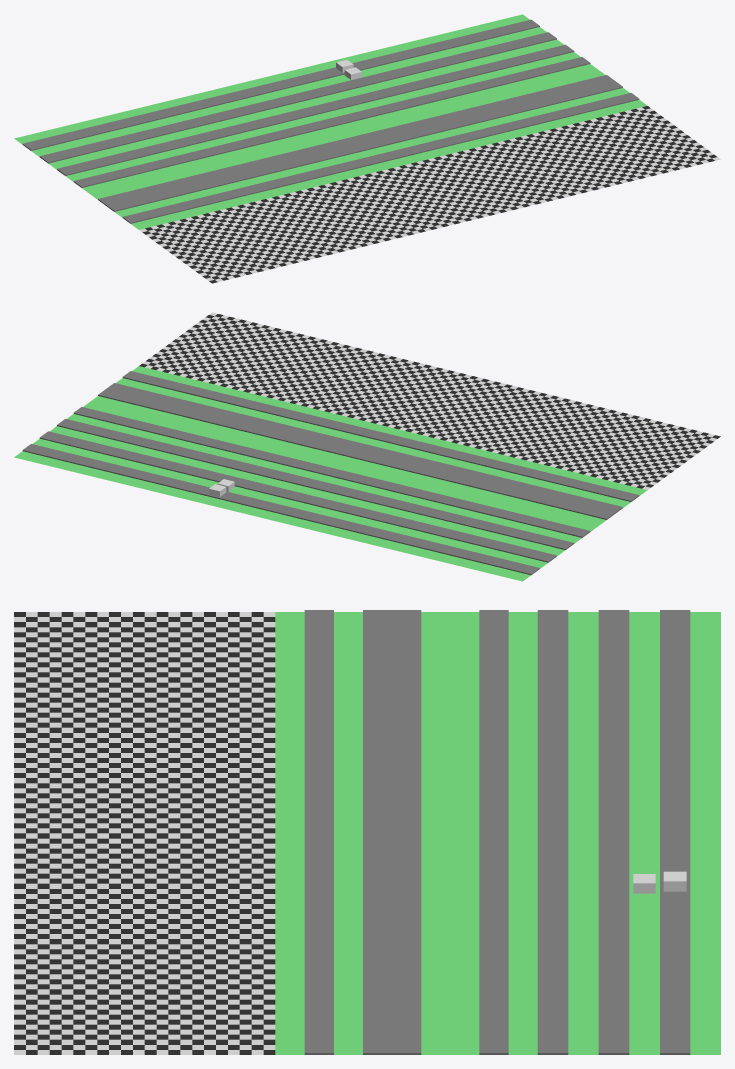
Rendered from Map02.fbx.
The picture shows the model from 3 angles, top to bottom: view 1: azimuth 30°, elevation 25°; view 2: azimuth 150°, elevation 25°; view 3: azimuth 270°, elevation 25°; orthographic projection. The views are drawn at different scales.
Parts seen in each view (by area): view 1: Level1.001; view 2: Level1.001; view 3: Level1.001.
Part boxes in pixels (left/top/right/bottom): Level1.001: left=14, top=14, right=720, bottom=283; Level1.001: left=14, top=312, right=720, bottom=581; Level1.001: left=14, top=610, right=720, bottom=1054.
Bounding box in the file's own units: 2400 × 56.79 × 1619.
